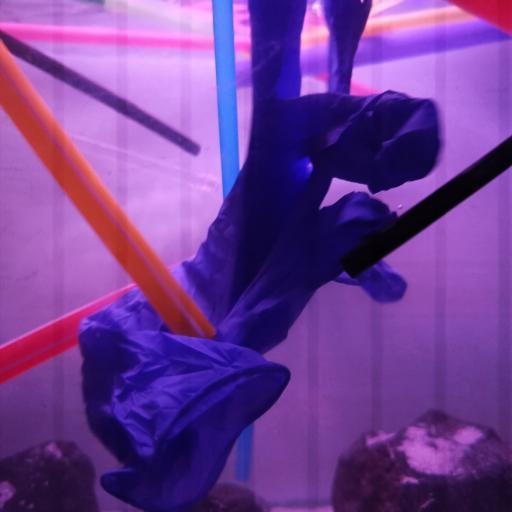glove: (78, 0, 444, 512)
plastic_straw: (0, 40, 216, 340), (0, 30, 201, 157), (338, 135, 512, 279), (235, 17, 512, 91), (211, 0, 253, 480), (0, 282, 138, 390), (68, 133, 221, 195), (300, 5, 476, 49), (0, 22, 250, 52)
